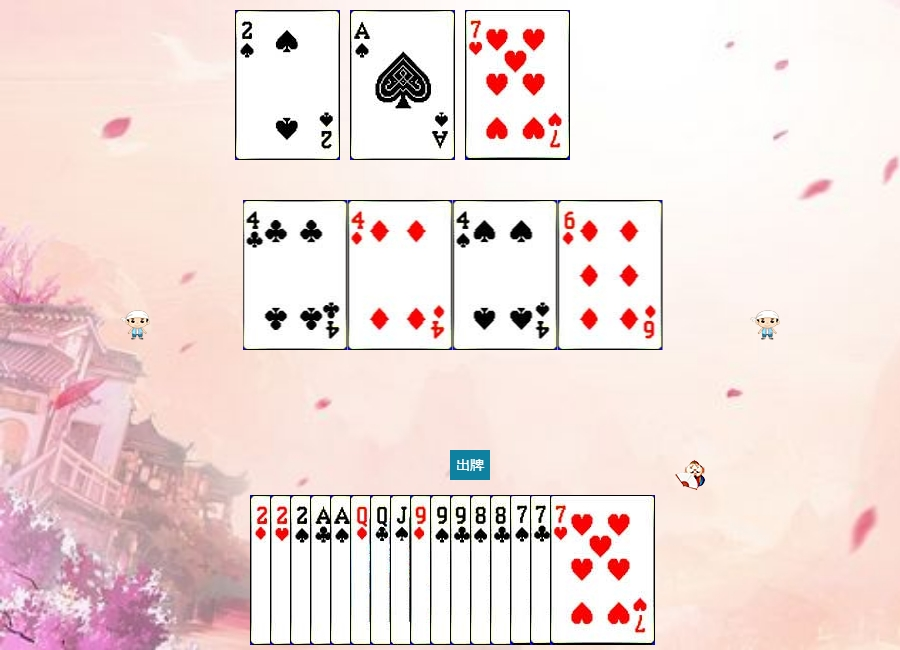11~4: (390, 495, 495, 645)
12~1: (350, 495, 455, 645)
12~2: (370, 495, 475, 645)
14~2: (310, 495, 415, 645)
14~4: (350, 10, 455, 160), (330, 495, 435, 645)
15~1: (250, 495, 355, 645)
15~3: (270, 495, 375, 645)
15~4: (235, 10, 340, 160), (290, 495, 395, 645)
4~1: (348, 200, 453, 350)
4~2: (243, 200, 348, 350)
4~4: (453, 200, 558, 350)
6~1: (558, 200, 663, 350)
7~2: (530, 495, 635, 645)
7~3: (465, 10, 570, 160), (550, 495, 655, 645)
7~4: (510, 495, 615, 645)
8~2: (490, 495, 595, 645)
8~4: (470, 495, 575, 645)
9~1: (410, 495, 515, 645)
9~2: (450, 495, 555, 645)
9~4: (430, 495, 535, 645)
